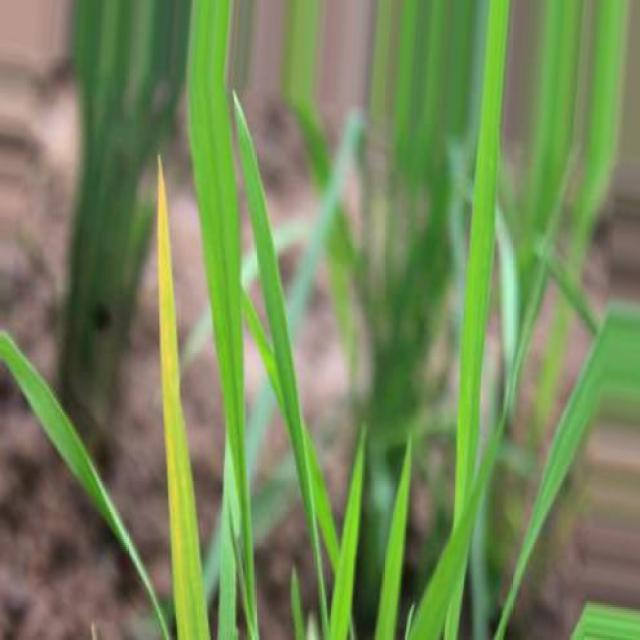Rice Tungro: (159, 158, 210, 639)
